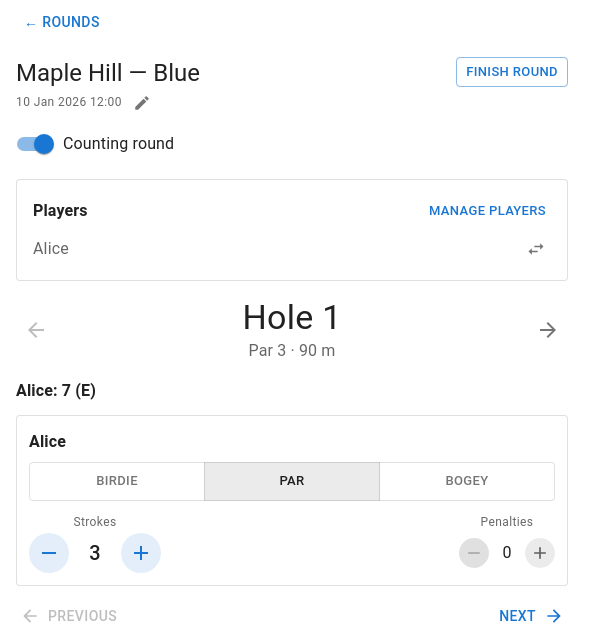
Test: RoundPage › swaps a single player with the standalone swap button
Check: the heading "Hole 1" is shown, box [242,297,342,339]
Click the button named "swap alice" at (536, 249), box [521,234,551,264]
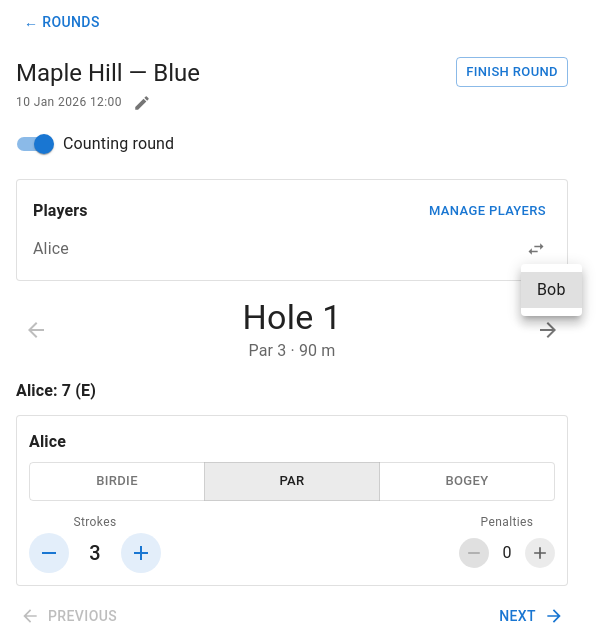
Click the menu item "Bob" at (551, 290), box [521,272,582,308]
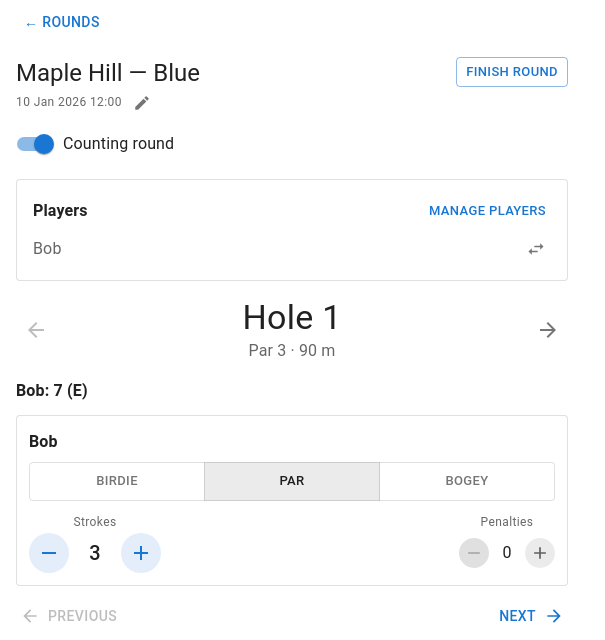
Check: the text "Bob" is shown, box [33,237,62,261]
